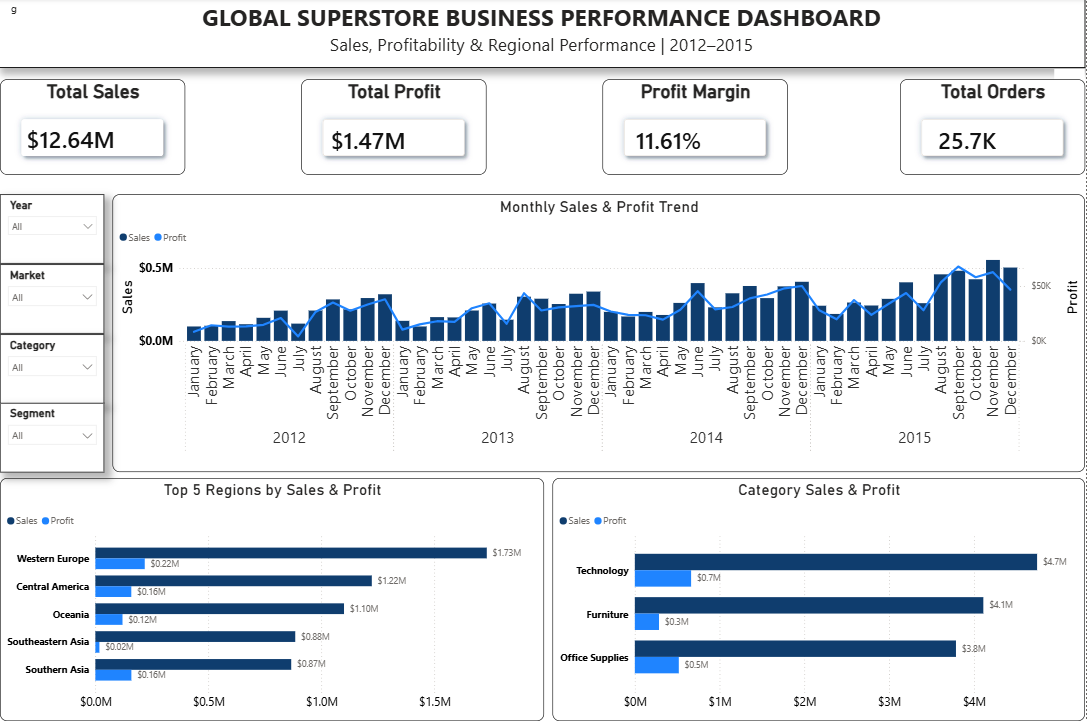

Layout of this report page (visuals, bound fields, positions):
{"tool":"powerbi","page":{"name":"Executive Dashboard","canvas":[1500,1000],"ordinal":0},"visuals":[{"type":"textbox","box":[10,0,280,280],"z":0},{"type":"textbox","box":[-4,0,1504,96],"z":1000},{"type":"cardVisual","title":"Total Sales","fields":{"Data":["Sum(public executive_summary.total_sales)"]},"box":[0,112,256,132],"z":2000},{"type":"cardVisual","title":"Total Profit","fields":{"Data":["Sum(public executive_summary.total_profit)"]},"box":[416,112,256,132],"z":3000},{"type":"cardVisual","title":"Profit Margin","fields":{"Data":["public superstore.Profit Margin"]},"box":[832,112,256,132],"z":4000},{"type":"cardVisual","title":"Total Orders","fields":{"Data":["public superstore.Total Orders"]},"box":[1244,112,256,132],"z":5000},{"type":"lineClusteredColumnComboChart","title":"Monthly Sales & Profit Trend","fields":{"Category":["public superstore.order_date.Variation.Date Hierarchy.Year","public superstore.order_date.Variation.Date Hierarchy.Month"],"Y":["Sum(public superstore.sales)"],"Y2":["Sum(public superstore.profit)"]},"box":[156,272,1344,384],"z":7000},{"type":"clusteredBarChart","title":"Category Sales & Profit","fields":{"Category":["public superstore.category"],"Y":["Sum(public superstore.sales)","Sum(public superstore.profit)"]},"box":[764,664,736,336],"z":8000},{"type":"clusteredBarChart","title":"Top 5 Regions by Sales & Profit","fields":{"Category":["public superstore.region"],"Y":["Sum(public superstore.sales)","Sum(public superstore.profit)"]},"box":[0,664,752,336],"z":9000},{"type":"slicer","fields":{"Values":["public superstore.order_date.Variation.Date Hierarchy.Year"]},"box":[0,272,144,96],"z":10000},{"type":"slicer","fields":{"Values":["public superstore.market"]},"box":[0,368,144,96],"z":11000},{"type":"slicer","fields":{"Values":["public superstore.category"]},"box":[0,464,144,96],"z":12000},{"type":"slicer","fields":{"Values":["public superstore.segment"]},"box":[0,560,144,96],"z":13000}]}

Visuals, with their boxes in screenshot pixels (x1, y1, x2, y2), scaled from the page's 1500x1000 canvas onto the 1087x721 screenshot:
textbox: box=[7, 0, 210, 202]
textbox: box=[0, 0, 1086, 69]
"Total Sales" cardVisual: box=[0, 81, 186, 176]
"Total Profit" cardVisual: box=[301, 81, 487, 176]
"Profit Margin" cardVisual: box=[603, 81, 788, 176]
"Total Orders" cardVisual: box=[901, 81, 1086, 176]
"Monthly Sales & Profit Trend" lineClusteredColumnComboChart: box=[113, 196, 1086, 473]
"Category Sales & Profit" clusteredBarChart: box=[554, 479, 1086, 720]
"Top 5 Regions by Sales & Profit" clusteredBarChart: box=[0, 479, 545, 720]
slicer - public superstore.order_date.Variation.Date Hierarchy.Year: box=[0, 196, 104, 265]
slicer - public superstore.market: box=[0, 265, 104, 335]
slicer - public superstore.category: box=[0, 335, 104, 404]
slicer - public superstore.segment: box=[0, 404, 104, 473]
